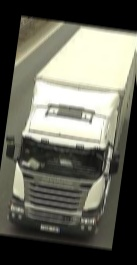truck: (0, 20, 137, 243)
